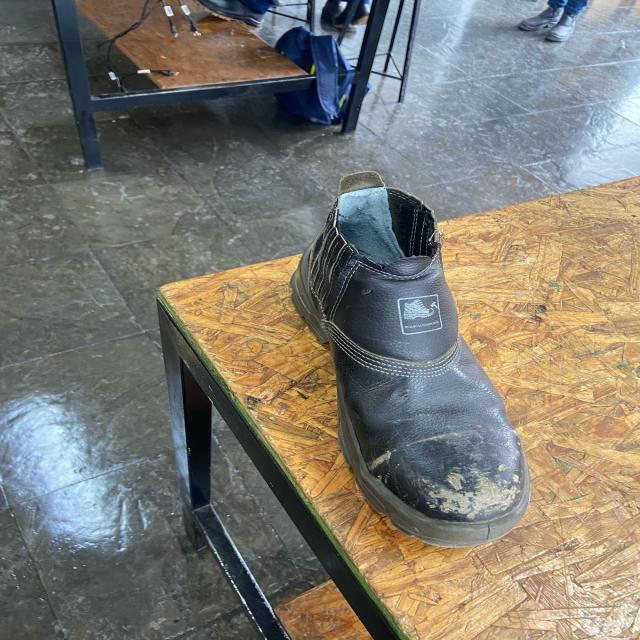BOTA: (278, 170, 533, 549)
